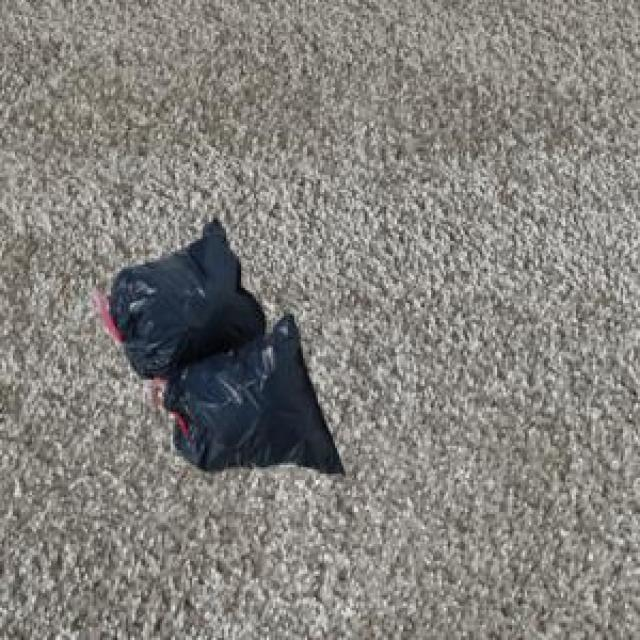waste: (109, 220, 265, 377)
